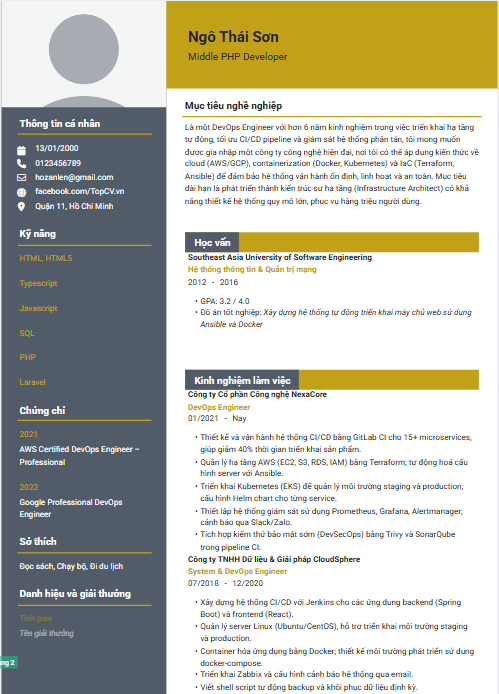address: (13, 199, 119, 217)
gpa: (192, 294, 254, 305)
level: (183, 48, 220, 64)
position: (221, 49, 291, 67)
skill: (10, 222, 157, 395)
